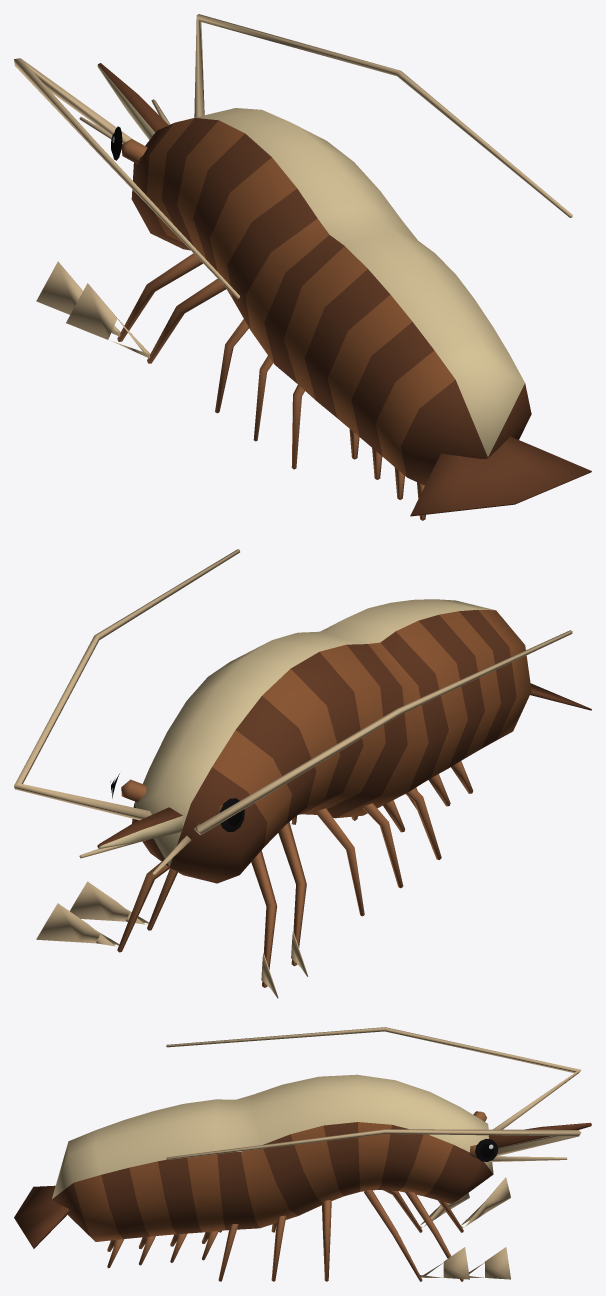
The model's file is bamboo_shrimp.glb.
The picture shows the model from 3 angles, top to bottom: view 1: azimuth 30°, elevation 25°; view 2: azimuth 150°, elevation 25°; view 3: azimuth 270°, elevation 25°; orthographic projection. The views are drawn at different scales.
Parts seen in each view (by area): view 1: bamboo_shrimp; view 2: bamboo_shrimp; view 3: bamboo_shrimp.
Part boxes in pixels (x1,y1,x2,y2): bamboo_shrimp: (14, 14, 591, 520); bamboo_shrimp: (14, 549, 591, 998); bamboo_shrimp: (14, 1027, 591, 1281).
Size of the model in its own units: 1.11 by 0.8254 by 2.39.
